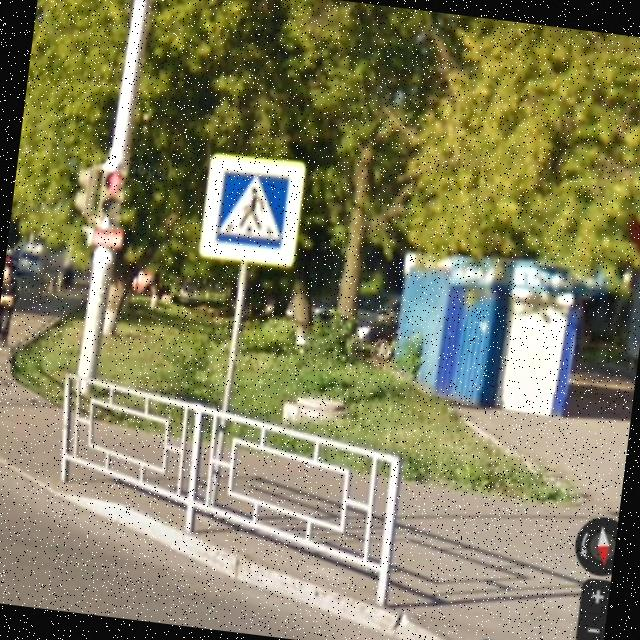Przejscie dla pieszych: (196, 147, 309, 270)
